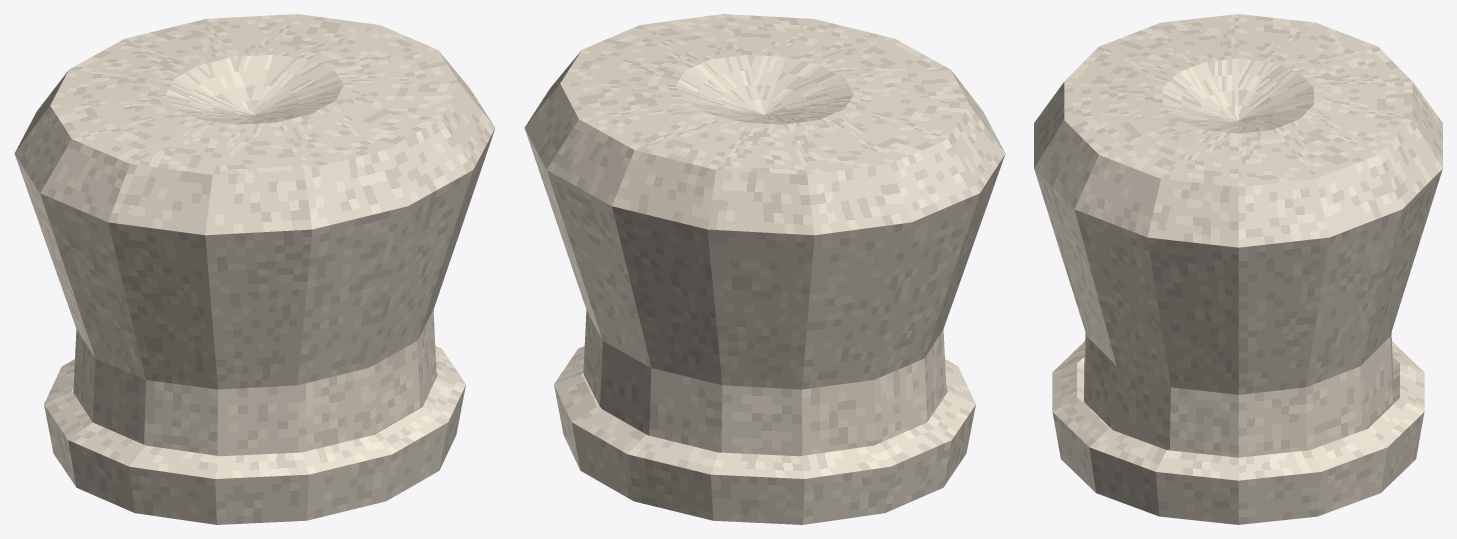
File: hat_chef.glb
3 renders of one model, left to right at view 1: azimuth 30°, elevation 25°; view 2: azimuth 150°, elevation 25°; view 3: azimuth 270°, elevation 25°, orthographic. The views are drawn at different scales.
Visible parts, largest first — view 1: block_tall crown, block_hat brim or band; view 2: block_tall crown, block_hat brim or band; view 3: block_tall crown, block_hat brim or band.
Boxes of the visible parts, x1,y1,x2,y2 form: block_tall crown: [14, 14, 495, 456]; block_hat brim or band: [44, 346, 465, 524]; block_tall crown: [524, 14, 1005, 456]; block_hat brim or band: [554, 346, 975, 524]; block_tall crown: [1034, 14, 1442, 457]; block_hat brim or band: [1052, 341, 1424, 524].
Bounding box in the file's own units: 0.204 × 0.1607 × 0.173.
Materials: 1 (1 with a texture image).
